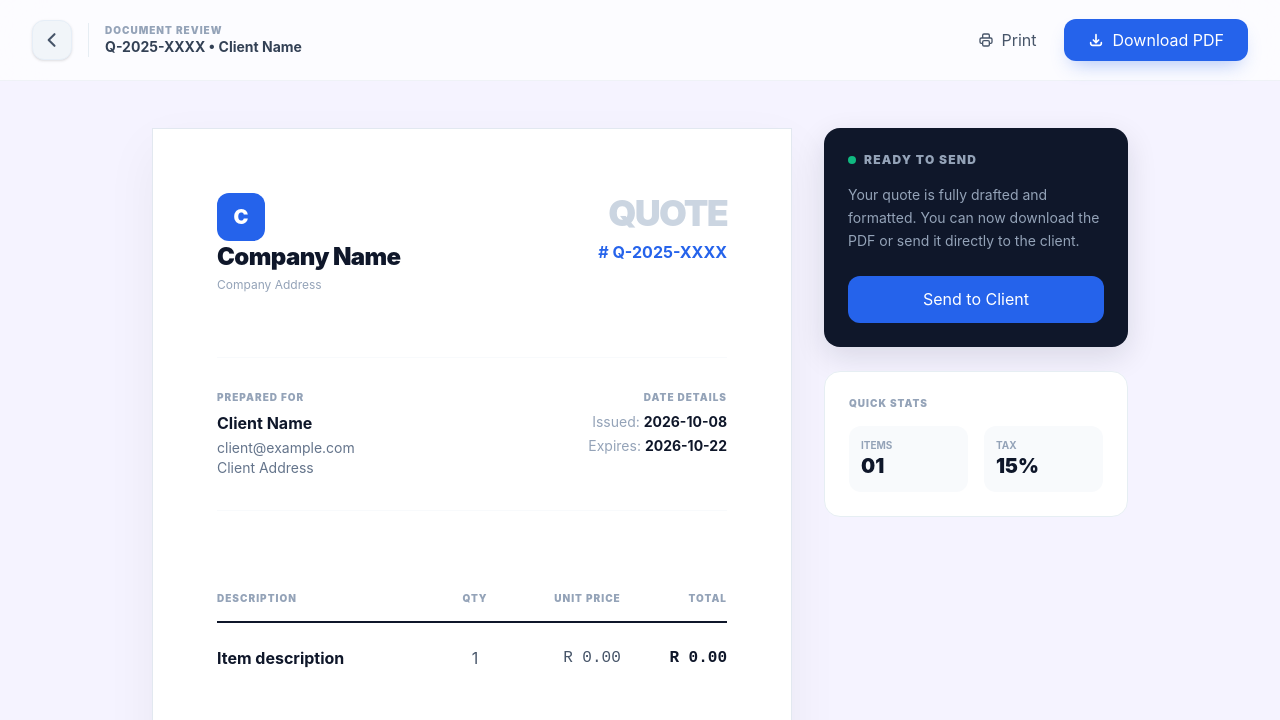
Test: QuotePreview integration › shows an error when quote PDF export rejects
Click the button "Download PDF": (1156, 40) [1064,19,1248,61]
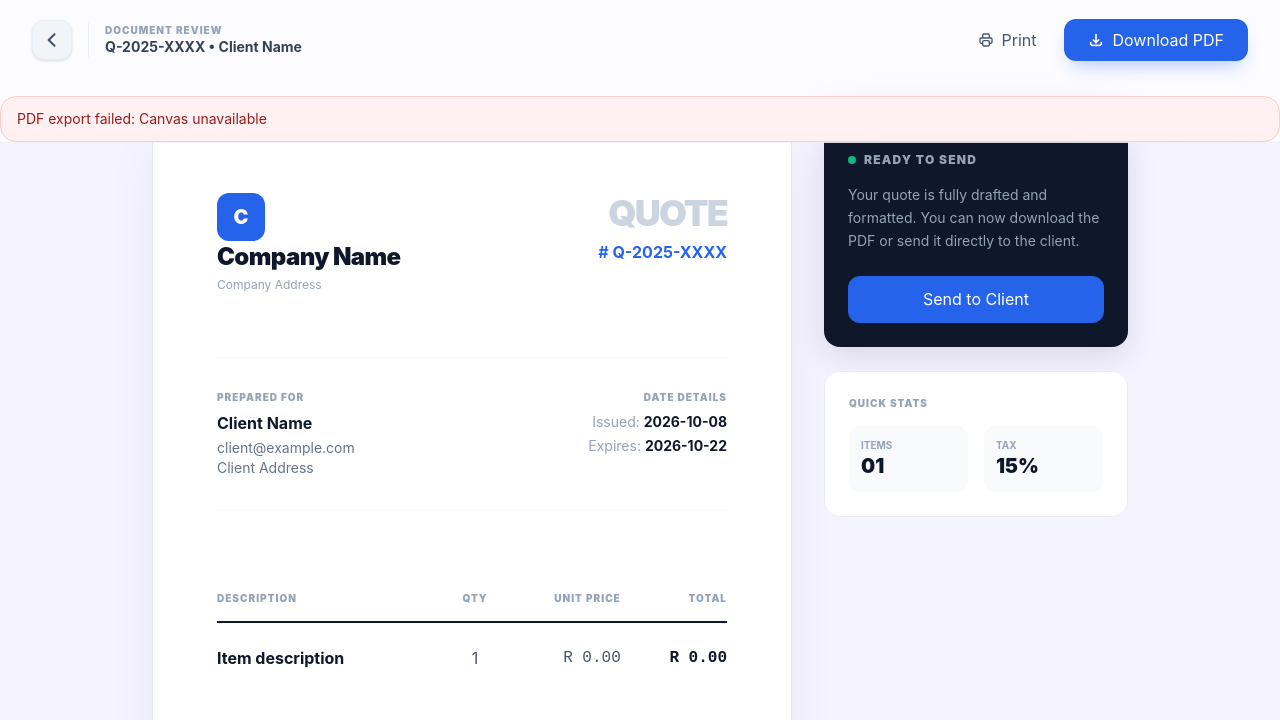
Expected: the text "PDF export failed: Canvas unavailable" is shown, [0,96,1279,142]
